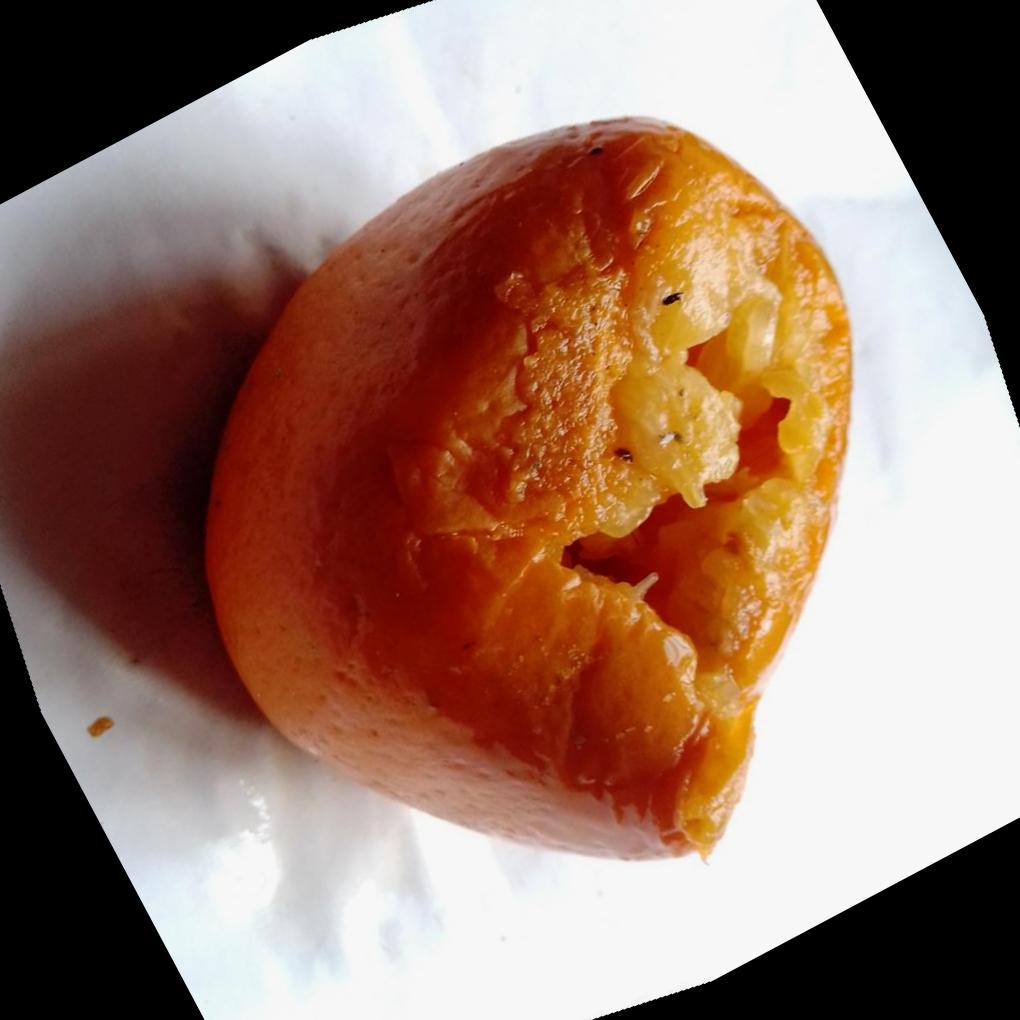FreshOrange: (197, 115, 851, 865)
